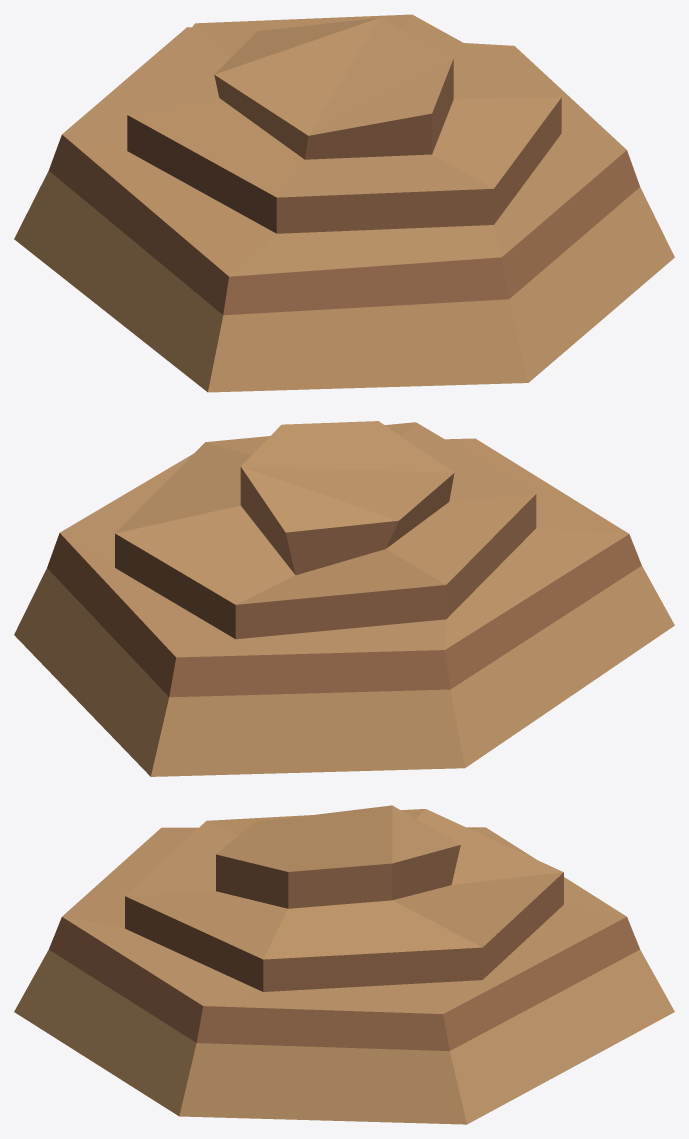
Rendered from rocks_03.fbx.
The picture shows the model from 3 angles, top to bottom: view 1: azimuth 30°, elevation 25°; view 2: azimuth 150°, elevation 25°; view 3: azimuth 270°, elevation 25°; orthographic projection. The views are drawn at different scales.
Parts seen in each view (by area): view 1: rocks_03; view 2: rocks_03; view 3: rocks_03.
Part boxes in pixels (x1,y1,x2,y2): rocks_03: (14,14,674,392); rocks_03: (14,421,674,776); rocks_03: (14,805,674,1124).
Bounding box in the file's own units: 1.6 × 2 × 0.5874.
